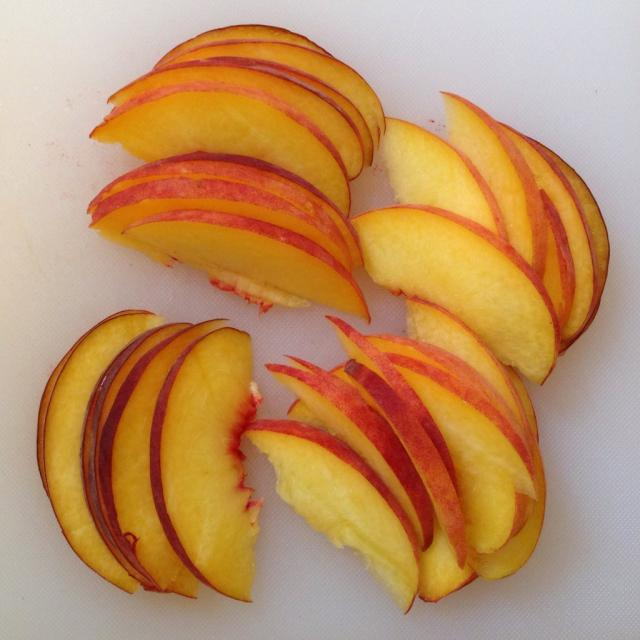Peach: (36, 22, 610, 621)
